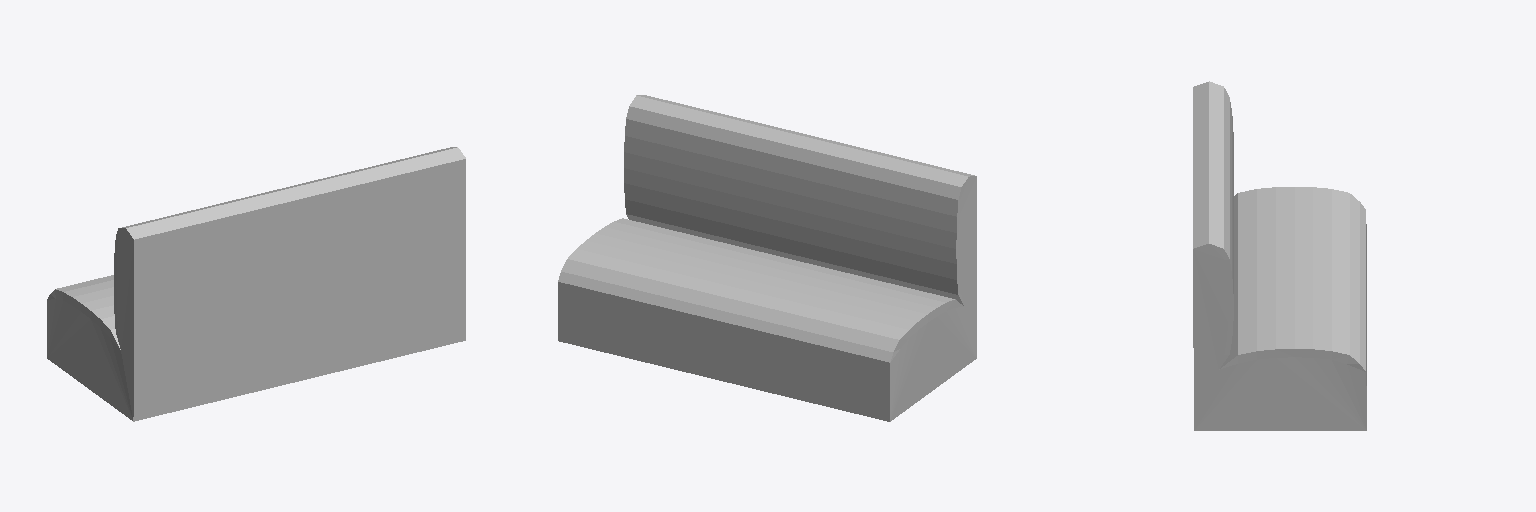
The model's file is booth.obj.
3 views of the same model, side by side, from view 1: azimuth 30°, elevation 25°; view 2: azimuth 150°, elevation 25°; view 3: azimuth 270°, elevation 25° (orthographic).
Visible parts, largest first — view 1: Cube; view 2: Cube; view 3: Cube.
Part boxes in pixels (bbox=[...]): Cube: bbox=[47, 147, 465, 421]; Cube: bbox=[558, 95, 976, 421]; Cube: bbox=[1193, 81, 1366, 430].
Bounding box in the file's own units: 4.46 × 2.39 × 2.01.